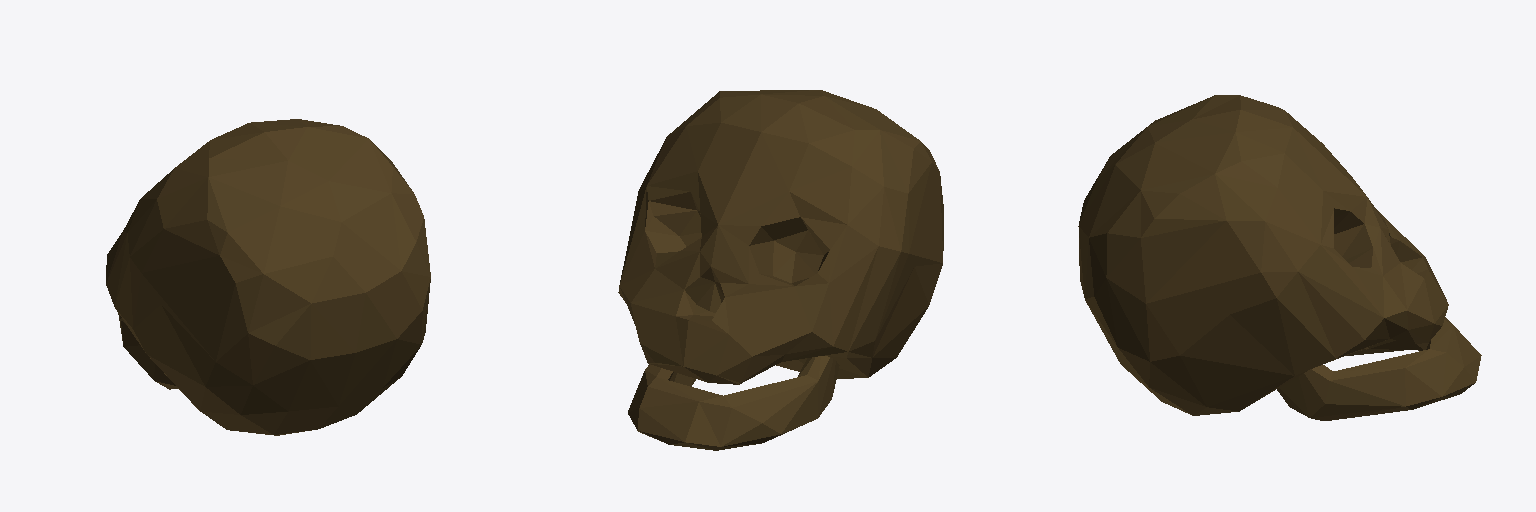
The model's file is Skull.obj.
3 views of the same model, side by side, from view 1: azimuth 30°, elevation 25°; view 2: azimuth 150°, elevation 25°; view 3: azimuth 270°, elevation 25° (orthographic).
Parts seen in each view (by area): view 1: Skull; view 2: Skull; view 3: Skull.
Boxes of the visible parts, x1=… form: Skull: x1=106, y1=119, x2=430, y2=435; Skull: x1=618, y1=90, x2=943, y2=450; Skull: x1=1078, y1=95, x2=1481, y2=420.
Bounding box in the file's own units: 0.4436 × 0.4606 × 0.5966.